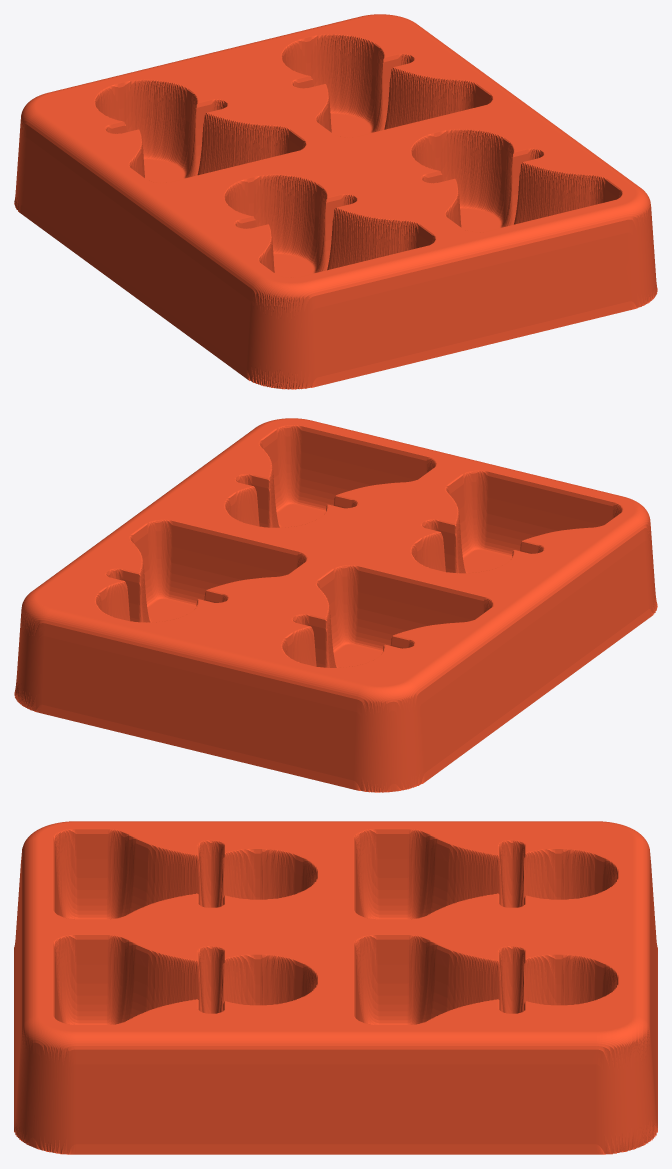
File: mold.glb
3 renders of one model, top to bottom at view 1: azimuth 30°, elevation 25°; view 2: azimuth 150°, elevation 25°; view 3: azimuth 270°, elevation 25°, orthographic. The views are drawn at different scales.
Parts seen in each view (by area): view 1: geometry_0; view 2: geometry_0; view 3: geometry_0.
Part boxes in pixels (x1,y1,x2,y2): geometry_0: [14, 14, 657, 389]; geometry_0: [14, 418, 657, 792]; geometry_0: [14, 821, 657, 1154].
Size of the model in its own units: 0.0794 by 0.0182 by 0.0942.
